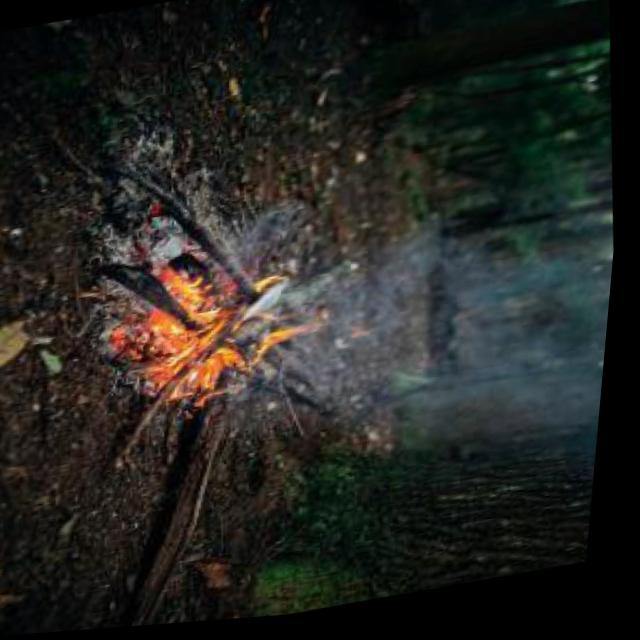Fire: (119, 266, 312, 411)
